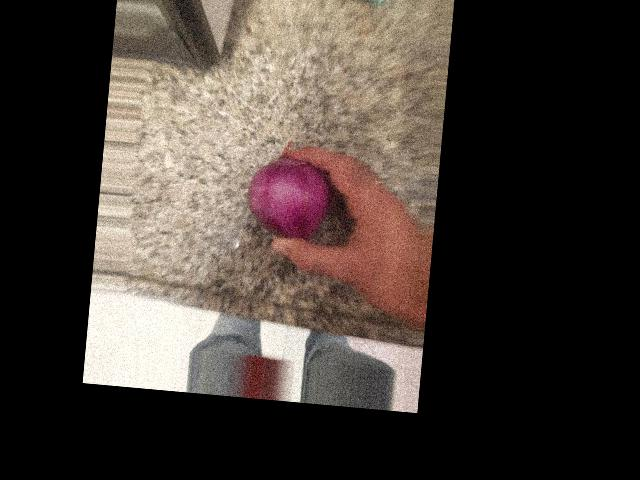onion: (147, 77, 240, 168)
